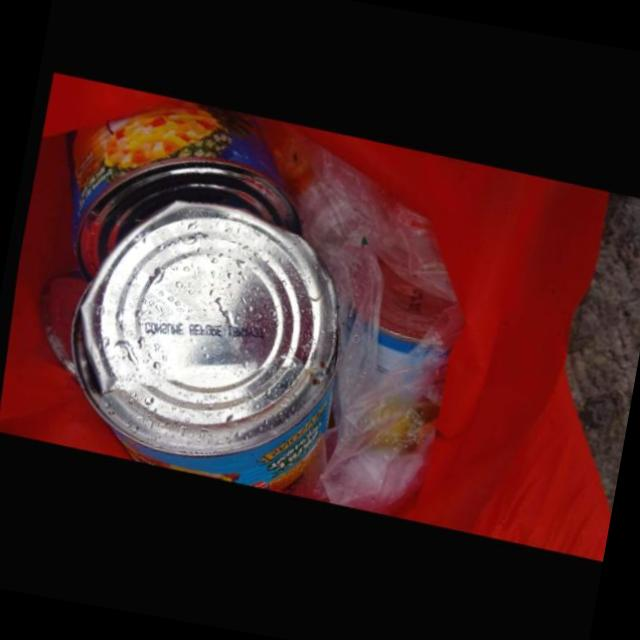nhom: (66, 201, 334, 486), (65, 98, 299, 280)
tui_ni_long: (253, 115, 456, 517)
